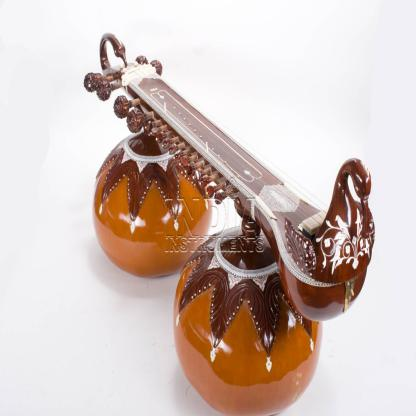Veena: (93, 26, 377, 327)
